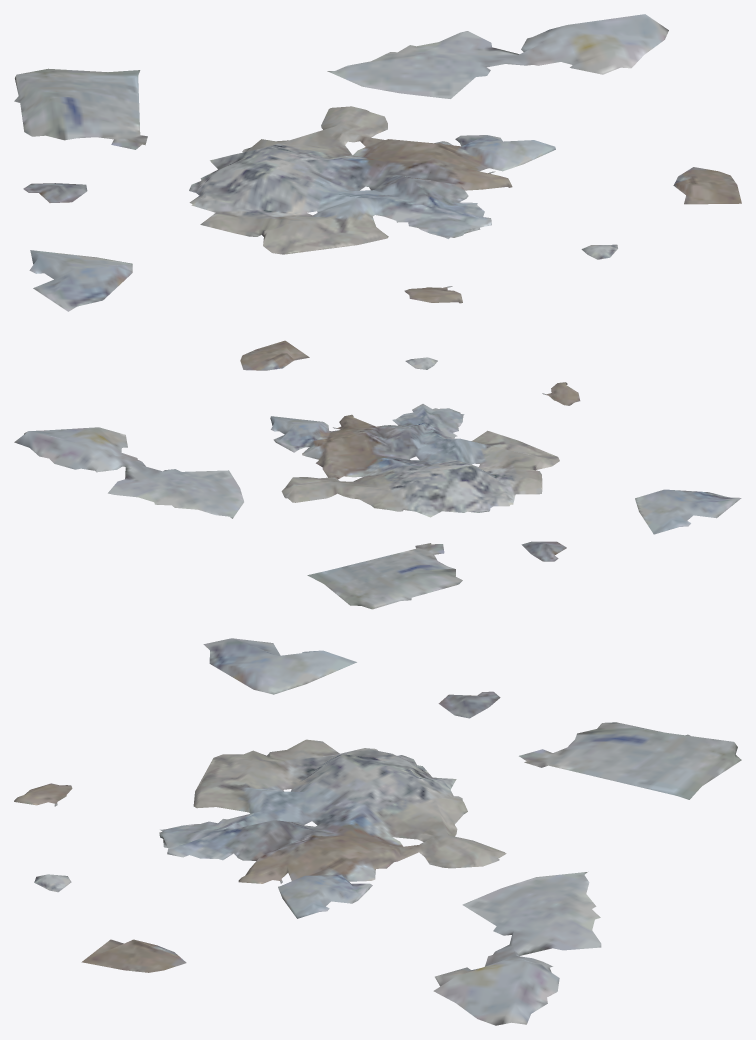
The model's file is sm20_001_wastepaper01a.fbx.
3 views of the same model, one above another, from view 1: azimuth 30°, elevation 25°; view 2: azimuth 150°, elevation 25°; view 3: azimuth 270°, elevation 25° (orthographic). The views are drawn at different scales.
Visible parts, largest first — view 1: LOD_1_Group_0_Sub_1__sm20_001_WastePaper01A_A_Mat; view 2: LOD_1_Group_0_Sub_1__sm20_001_WastePaper01A_A_Mat; view 3: LOD_1_Group_0_Sub_1__sm20_001_WastePaper01A_A_Mat.
Boxes of the visible parts, left/top/right/bottom form: LOD_1_Group_0_Sub_1__sm20_001_WastePaper01A_A_Mat: left=14, top=14, right=741, bottom=311; LOD_1_Group_0_Sub_1__sm20_001_WastePaper01A_A_Mat: left=14, top=340, right=741, bottom=609; LOD_1_Group_0_Sub_1__sm20_001_WastePaper01A_A_Mat: left=14, top=638, right=741, bottom=1025.
Bounding box in the file's own units: 2.2 × 0.0681 × 1.77.
